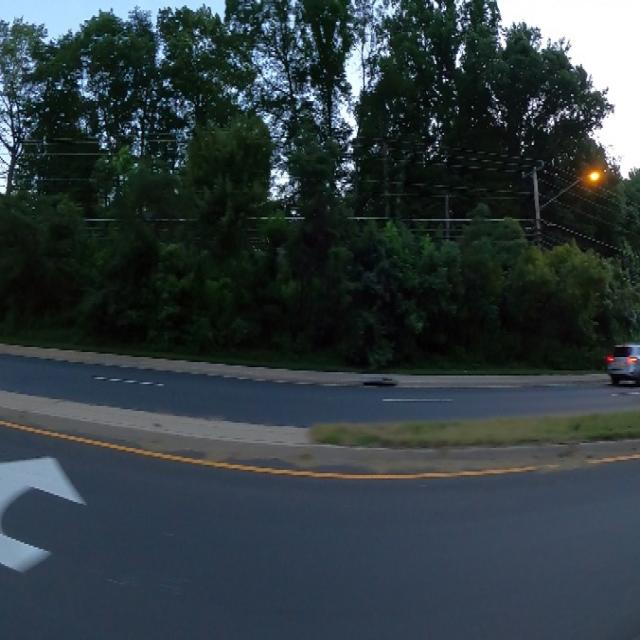cars: (602, 323, 640, 409)
